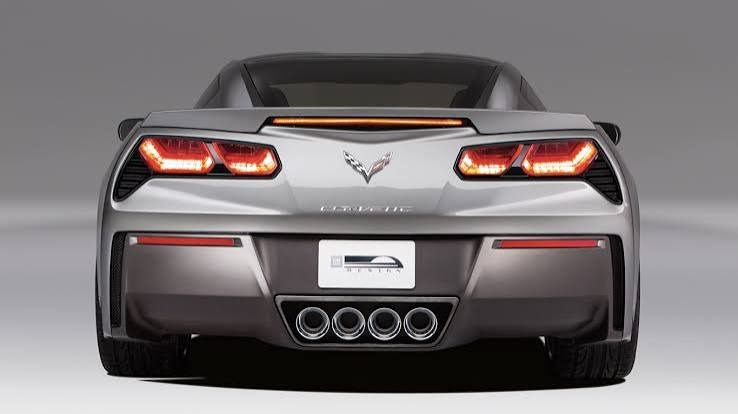car: (96, 53, 630, 392)
